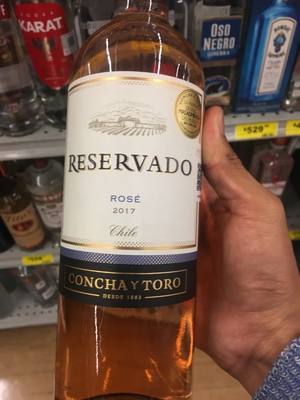reservado rose: (61, 14, 203, 398)
